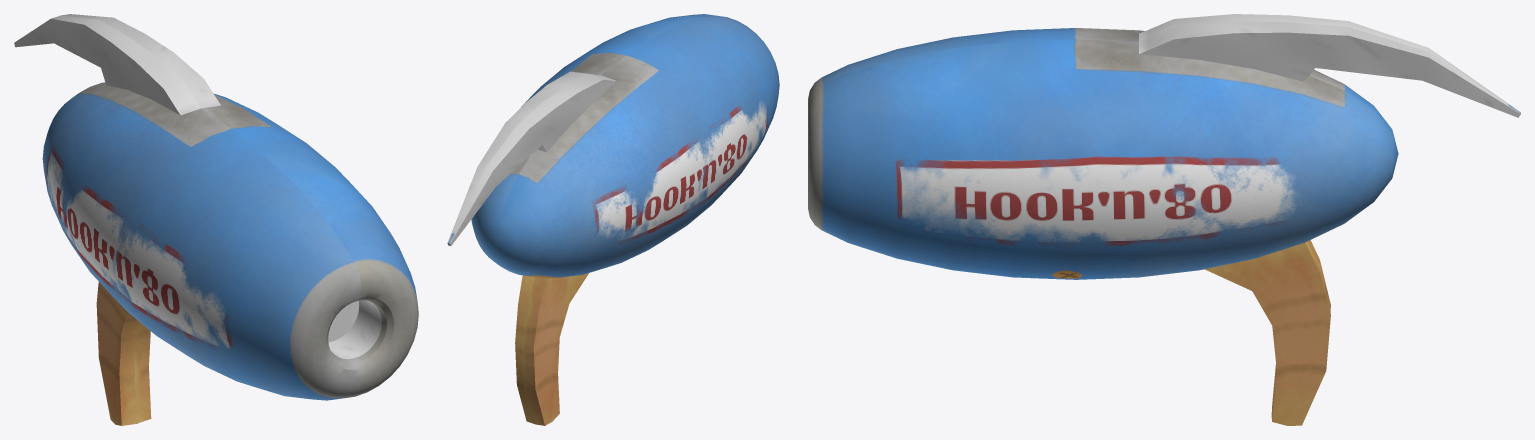
File: Blaster.fbx
The picture shows the model from 3 angles, left to right: view 1: azimuth 30°, elevation 25°; view 2: azimuth 150°, elevation 25°; view 3: azimuth 270°, elevation 25°; orthographic projection. The views are drawn at different scales.
Visible parts, largest first — view 1: Blaster; view 2: Blaster; view 3: Blaster.
Boxes of the visible parts, <box> form: Blaster: <box>14,14,418,425</box>; Blaster: <box>447,14,779,425</box>; Blaster: <box>808,14,1520,425</box>.
Size of the model in its own units: 44.52 by 77.78 by 126.
1 material, 1 textured.
